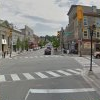crosswalk: (0, 67, 81, 81)
